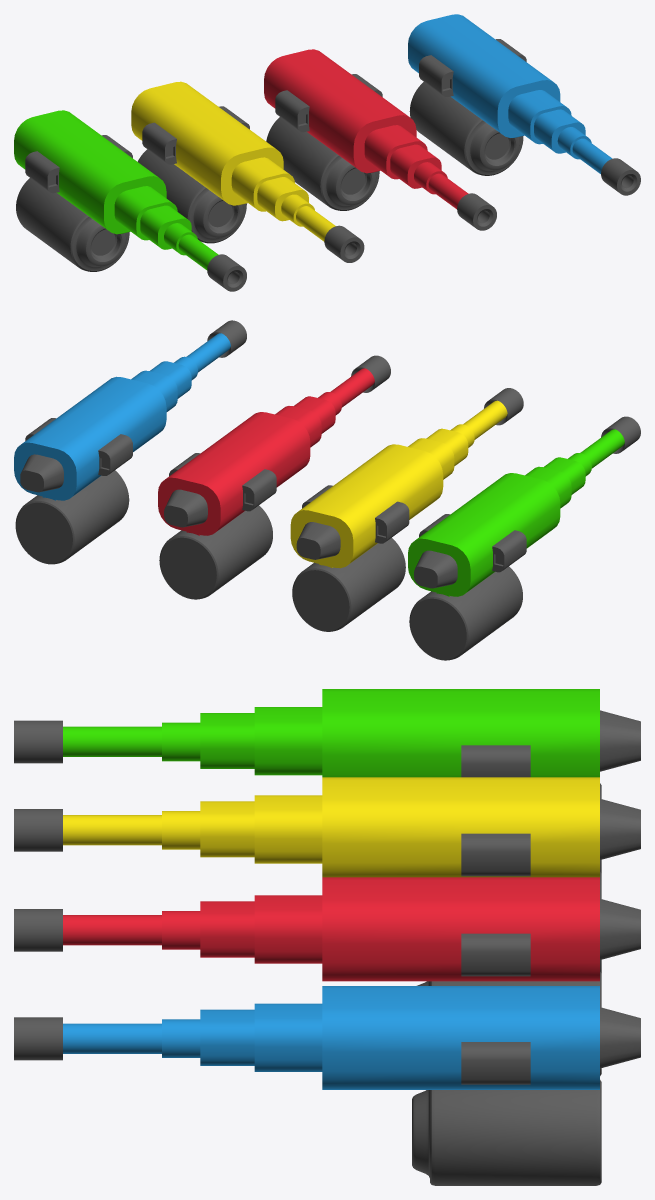
File: FlameThrowerLevel1.fbx
3 renders of one model, top to bottom at view 1: azimuth 30°, elevation 25°; view 2: azimuth 150°, elevation 25°; view 3: azimuth 270°, elevation 25°, orthographic. The views are drawn at different scales.
Visible parts, largest first — view 1: FlameThrowerLevel1Green, FlameThrowerLevel1Green.003, FlameThrowerLevel1Green.002, FlameThrowerLevel1Green.001; view 2: FlameThrowerLevel1Green.001, FlameThrowerLevel1Green.002, FlameThrowerLevel1Green, FlameThrowerLevel1Green.003; view 3: FlameThrowerLevel1Green.003, FlameThrowerLevel1Green.002, FlameThrowerLevel1Green.001, FlameThrowerLevel1Green.
Part boxes in pixels (bbox=[...]): FlameThrowerLevel1Green: bbox=[14, 110, 246, 291]; FlameThrowerLevel1Green.003: bbox=[408, 14, 640, 195]; FlameThrowerLevel1Green.002: bbox=[264, 49, 496, 230]; FlameThrowerLevel1Green.001: bbox=[131, 81, 364, 262]; FlameThrowerLevel1Green.001: bbox=[290, 388, 523, 631]; FlameThrowerLevel1Green.002: bbox=[158, 355, 390, 599]; FlameThrowerLevel1Green: bbox=[408, 416, 640, 660]; FlameThrowerLevel1Green.003: bbox=[14, 320, 246, 564]; FlameThrowerLevel1Green.003: bbox=[14, 986, 640, 1185]; FlameThrowerLevel1Green.002: bbox=[14, 877, 640, 1075]; FlameThrowerLevel1Green.001: bbox=[14, 777, 640, 972]; FlameThrowerLevel1Green: bbox=[14, 689, 640, 872].
Size of the model in its own units: 438 by 103 by 321.
